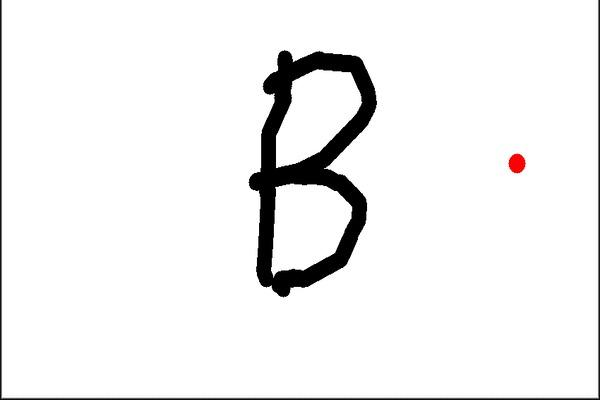B: (240, 41, 384, 304)
